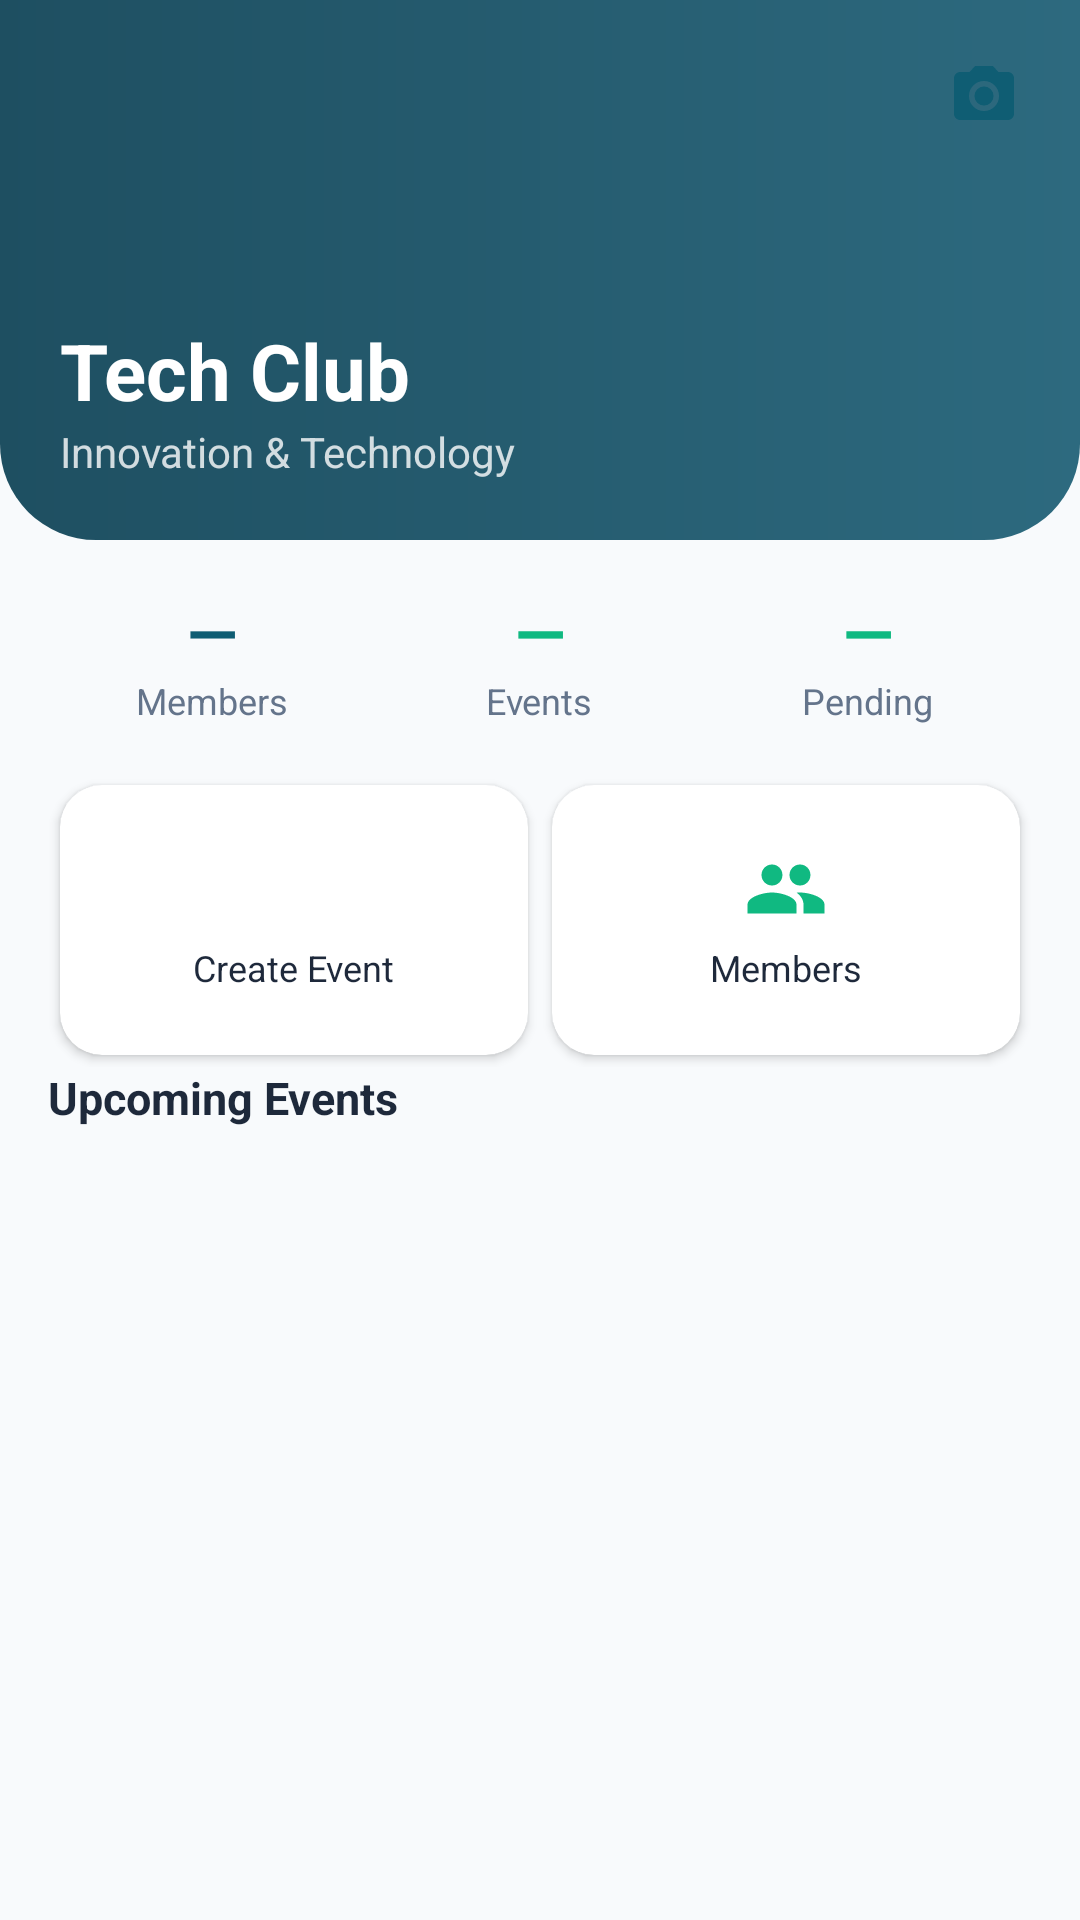

Screen size 1080 × 1920. Icon name, then its box in pixels as [x1,y1,x2,y2]:
camera: [954,66,1014,120]
